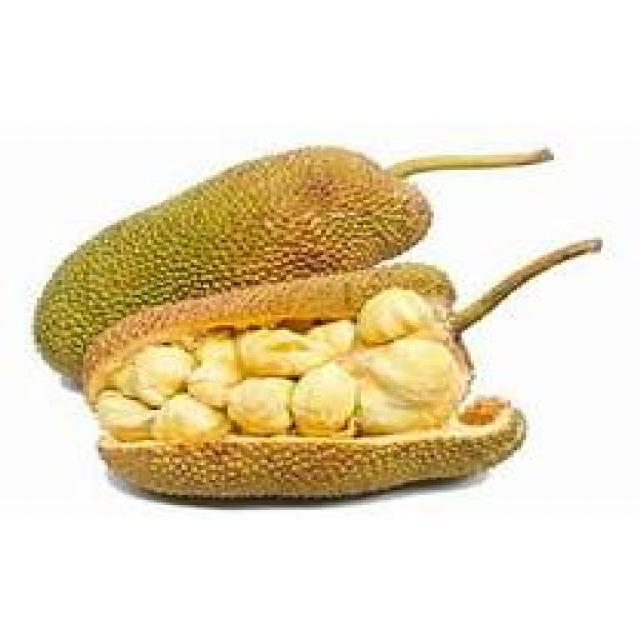Fruit: (15, 125, 443, 380)
